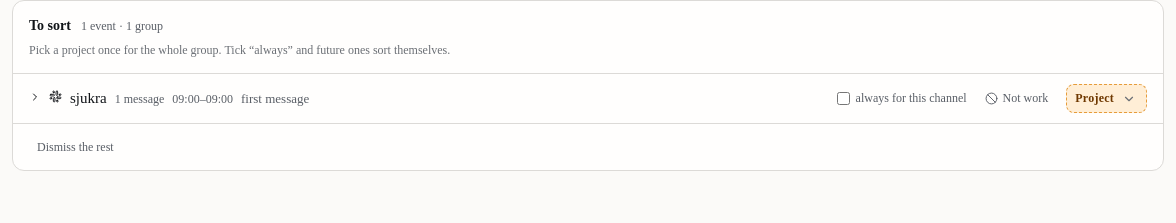
Scenario: filing a group › shows an inline error and keeps the group when a project no longer exists
Click the button with aria-label "project for sjukra": (1107, 99) [1066,84,1147,113]
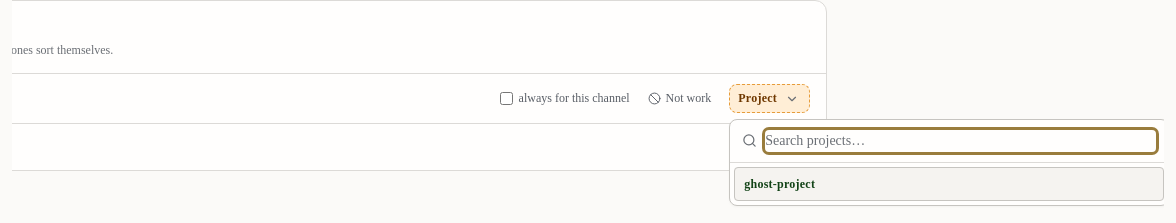
Click the option "ghost-project": (780, 184) [734,167,1164,201]
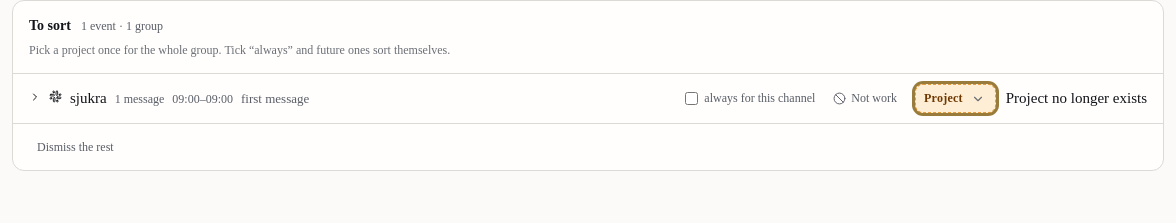
expect the button with aria-label "project for sjukra" is shown: met, box [915,84,996,113]
expect the text "Project no longer exists" is shown: met, box [1006,87,1147,110]
